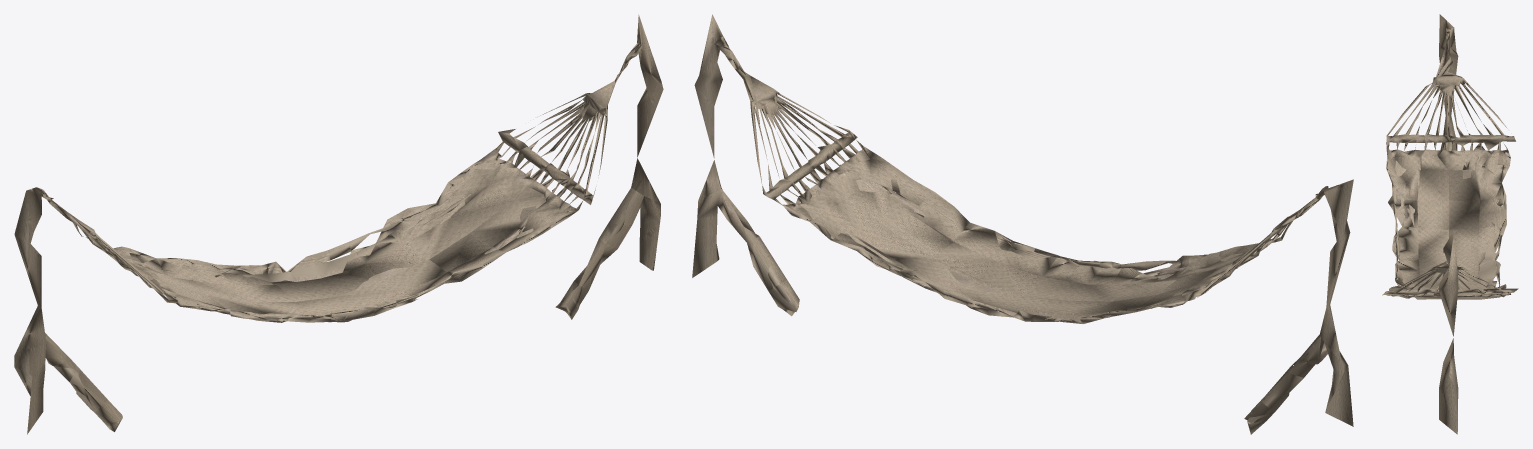
File: hammock_lod1.glb
3 renders of one model, left to right at view 1: azimuth 30°, elevation 25°; view 2: azimuth 150°, elevation 25°; view 3: azimuth 270°, elevation 25°, orthographic. The views are drawn at different scales.
Parts seen in each view (by area): view 1: mesh_node; view 2: mesh_node; view 3: mesh_node.
Boxes of the visible parts, x1,y1,x2,y2 form: mesh_node: (14, 14, 663, 434); mesh_node: (692, 14, 1353, 434); mesh_node: (1382, 14, 1518, 434).
Bounding box in the file's own units: 1.9 × 0.8112 × 0.4663.
Materials: 1 (1 with a texture image).
